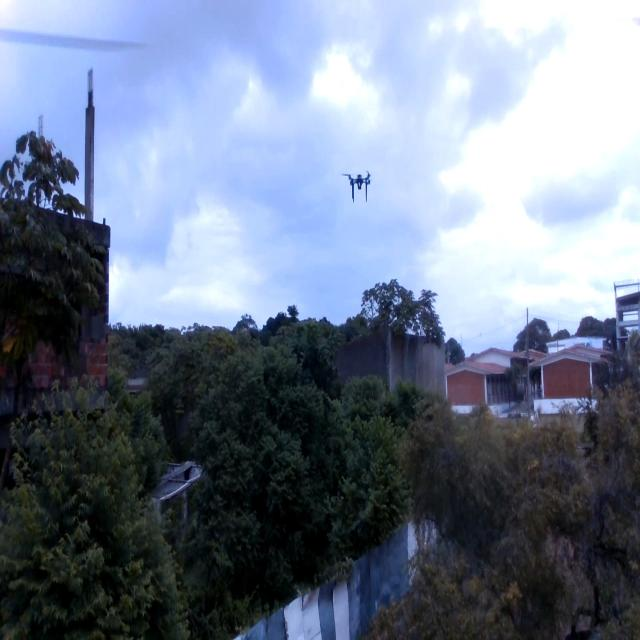-uav-: (338, 162, 376, 208)
